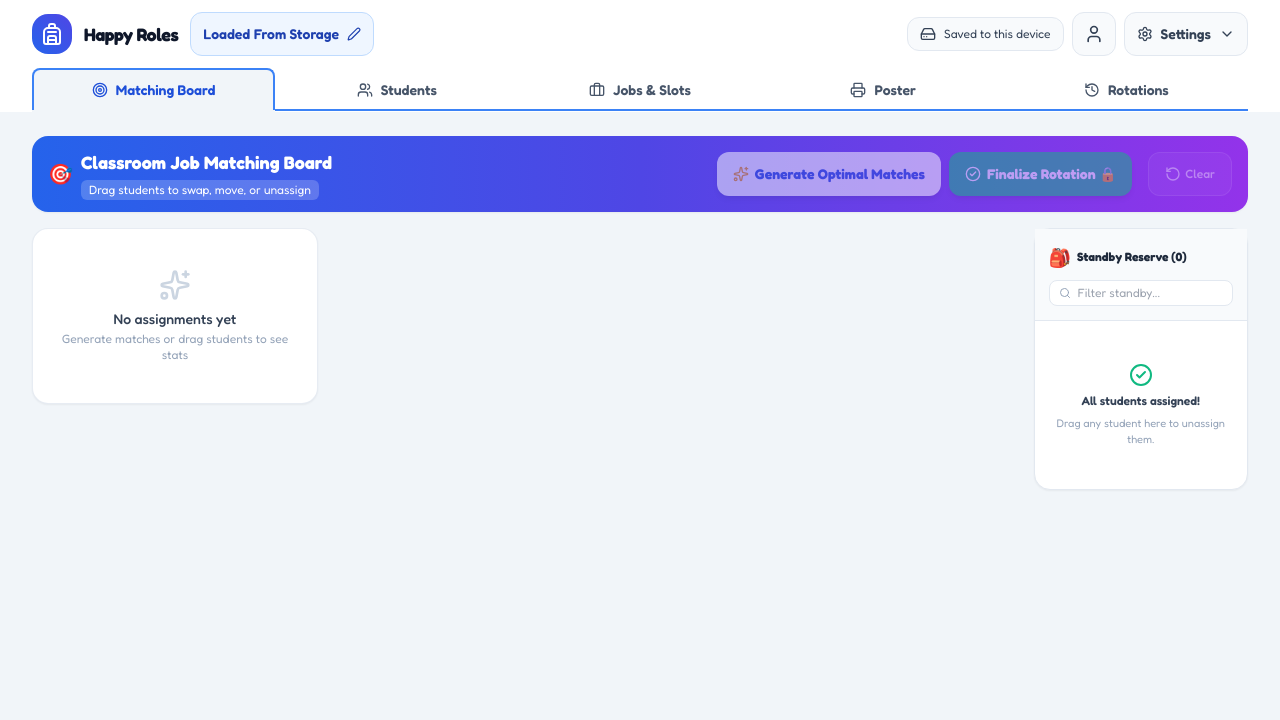
Test: App Core Functionality › Class Title Persistence › prefills edit field with saved title on page load (migration)
Expected: the text "Loaded From Storage" is shown, [203,24,339,44]
// Click to edit
Click the button "Loaded From Storage": x=282, y=34 [190,12,374,56]
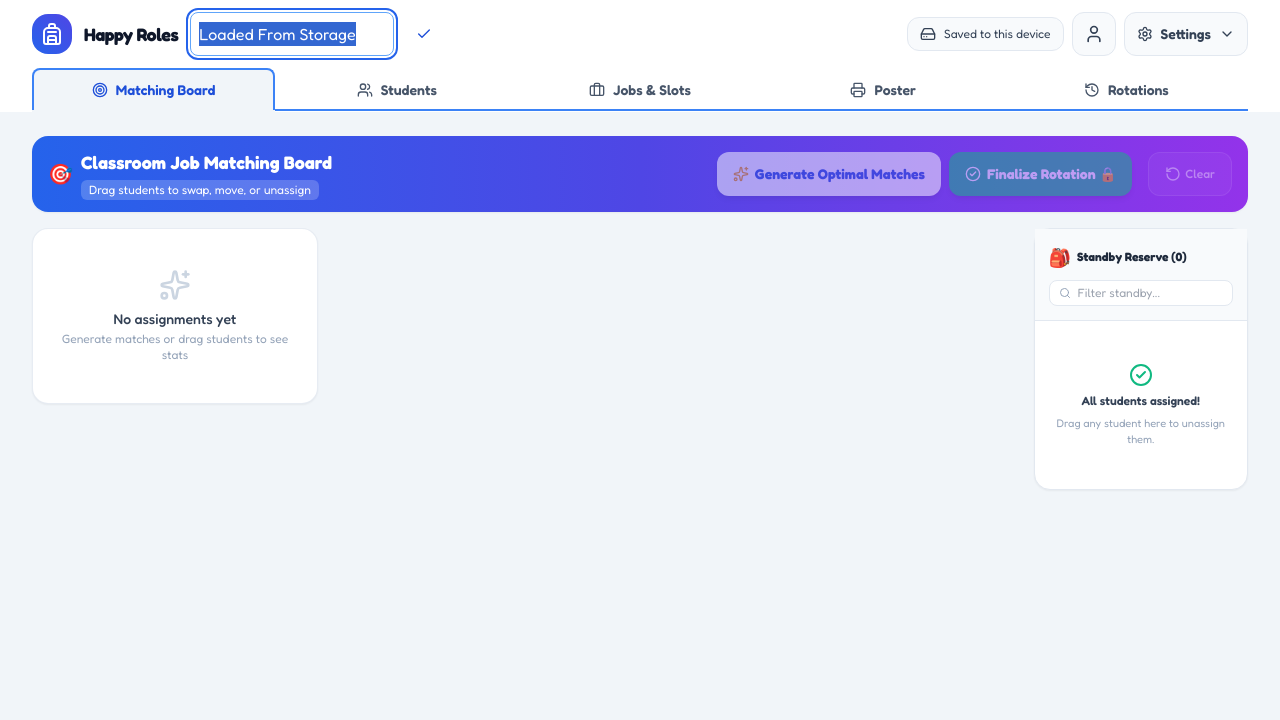
Expected: the field named "Edit class name" holds "Loaded From Storage", [190,12,394,56]
